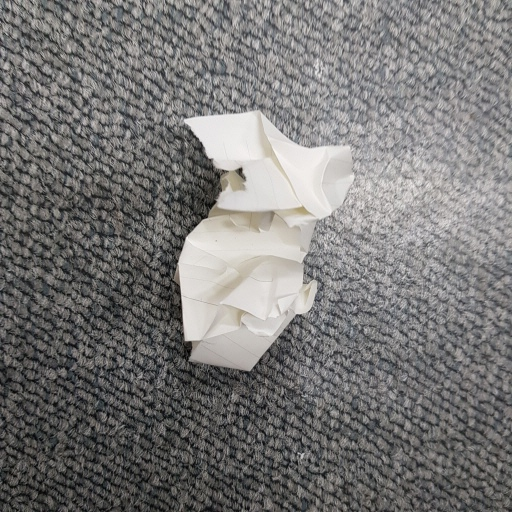Paper_3: (157, 111, 355, 381)
